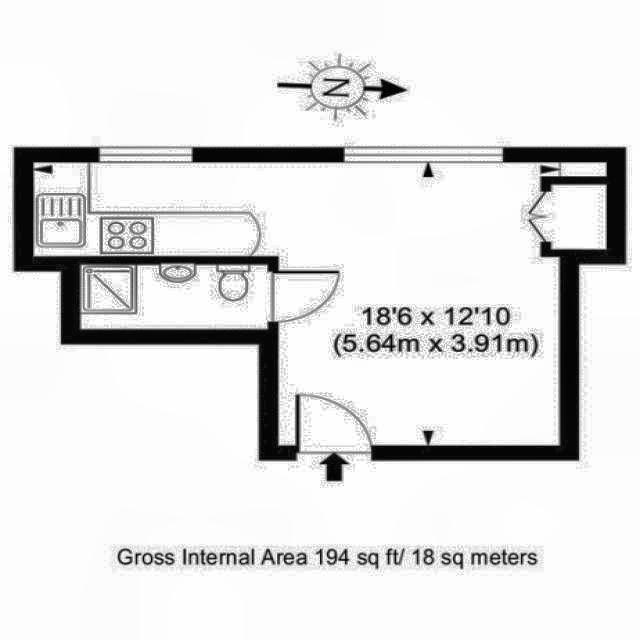room: (33, 161, 607, 446), (80, 264, 267, 329)
